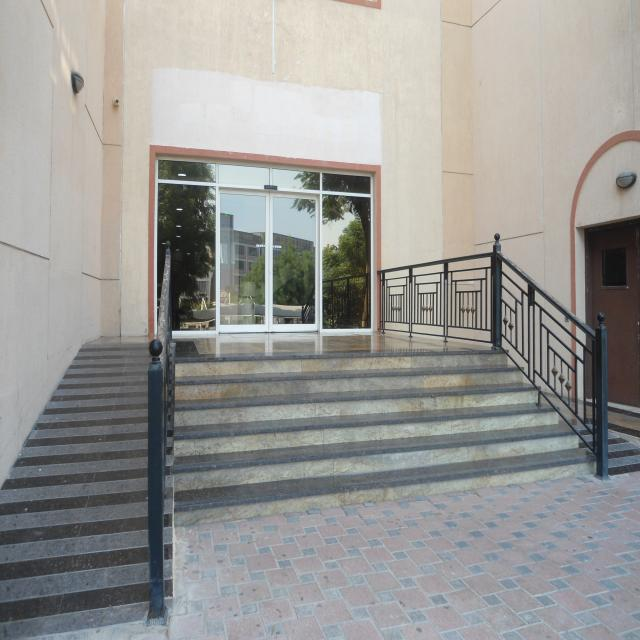cctv: (71, 54, 90, 106)
door: (154, 154, 383, 340), (584, 220, 640, 410)
railing: (496, 254, 606, 482), (138, 254, 176, 632), (378, 252, 495, 348)
ramp: (0, 329, 176, 640)
stairs: (161, 329, 598, 521)
